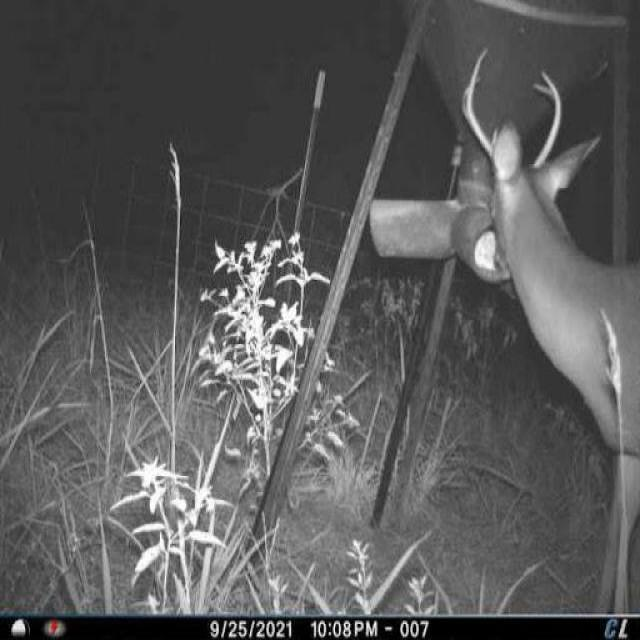deer: (452, 41, 640, 612)
